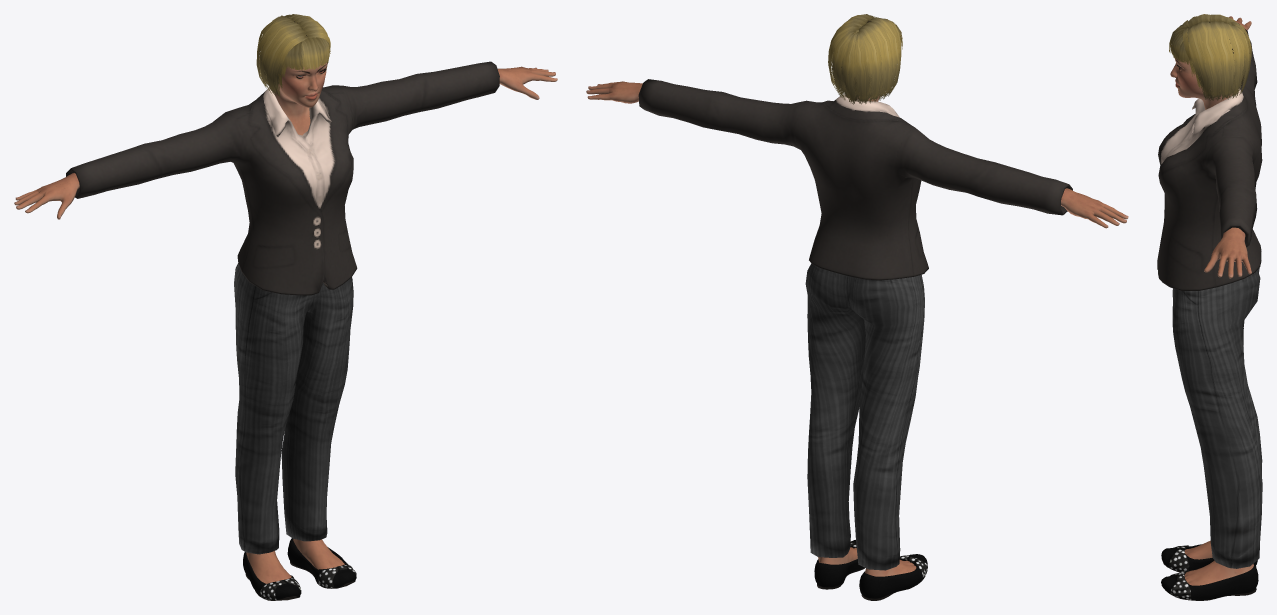
The model's file is Manager.obj.
3 renders of one model, left to right at view 1: azimuth 30°, elevation 25°; view 2: azimuth 150°, elevation 25°; view 3: azimuth 270°, elevation 25°, orthographic.
Parts seen in each view (by area): view 1: Tops, Bottoms, Body, Hair, Shoes; view 2: Tops, Bottoms, Hair, Body, Shoes; view 3: Bottoms, Tops, Hair, Body, Shoes.
Boxes of the visible parts, <box> form: Tops: <box>66,61,499,295</box>; Bottoms: <box>234,263,353,554</box>; Body: <box>14,21,557,583</box>; Hair: <box>256,14,330,96</box>; Shoes: <box>243,538,356,600</box>; Tops: <box>638,79,1072,280</box>; Bottoms: <box>805,263,924,570</box>; Hair: <box>828,14,902,104</box>; Body: <box>586,20,1128,576</box>; Shoes: <box>814,540,927,600</box>; Bottoms: <box>1172,268,1262,568</box>; Tops: <box>1157,23,1262,290</box>; Hair: <box>1169,14,1251,100</box>; Body: <box>1170,16,1253,585</box>; Shoes: <box>1161,544,1258,600</box>.
Bounding box in the file's own units: 179 × 178 × 30.35.
1 material, 1 textured.
